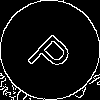P: (25, 25, 81, 81)
